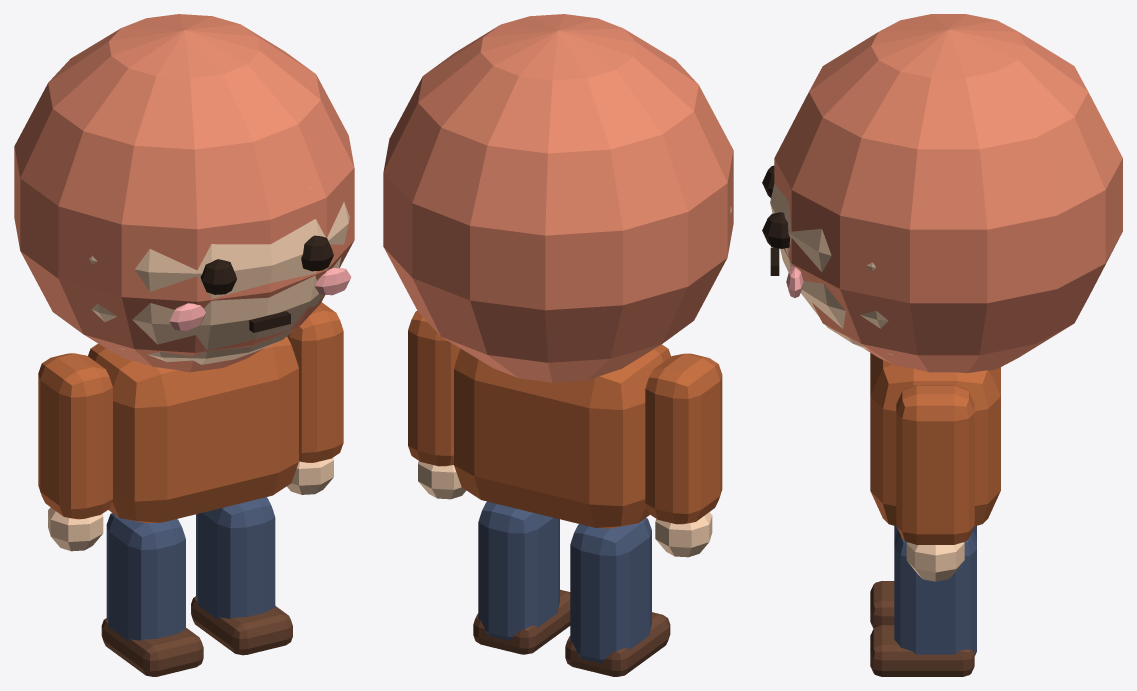
Rendered from kar_penjaga_pasar.fbx.
3 views of the same model, side by side, from view 1: azimuth 30°, elevation 25°; view 2: azimuth 150°, elevation 25°; view 3: azimuth 270°, elevation 25° (orthographic). The views are drawn at different scales.
Visible parts, largest first — view 1: kar_penjaga_pasar; view 2: kar_penjaga_pasar; view 3: kar_penjaga_pasar.
Part boxes in pixels (bbox=[...]): kar_penjaga_pasar: bbox=[14, 14, 354, 676]; kar_penjaga_pasar: bbox=[383, 14, 733, 676]; kar_penjaga_pasar: bbox=[762, 14, 1122, 676].
Bounding box in the file's own units: 78.02 × 156 × 82.85.
Materials: 1 (1 with a texture image).
